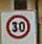limite 30: (4, 12, 29, 38)
